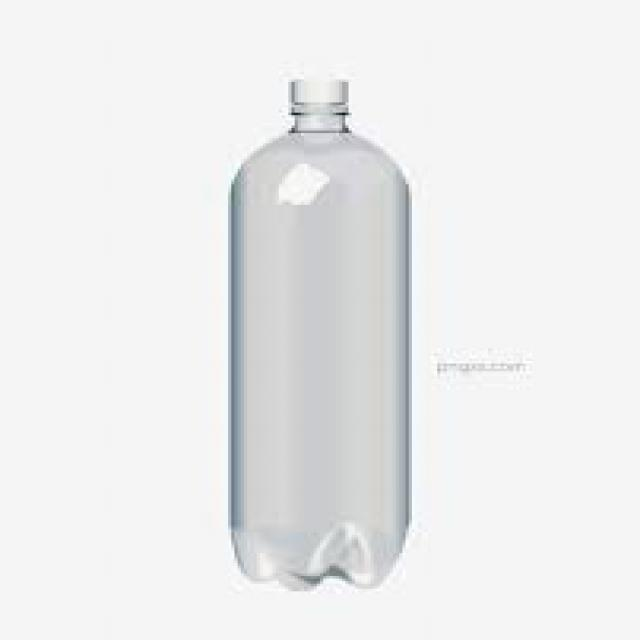Glass-Non-Biodegradable but Recyclable-: (227, 82, 412, 588)
